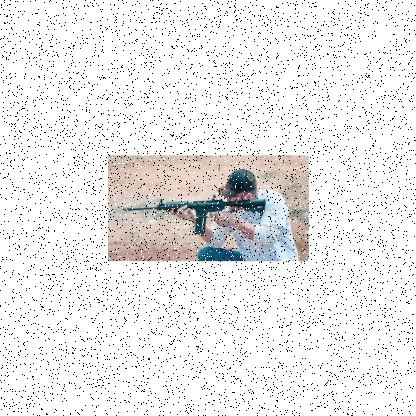gun: (120, 197, 266, 236)
